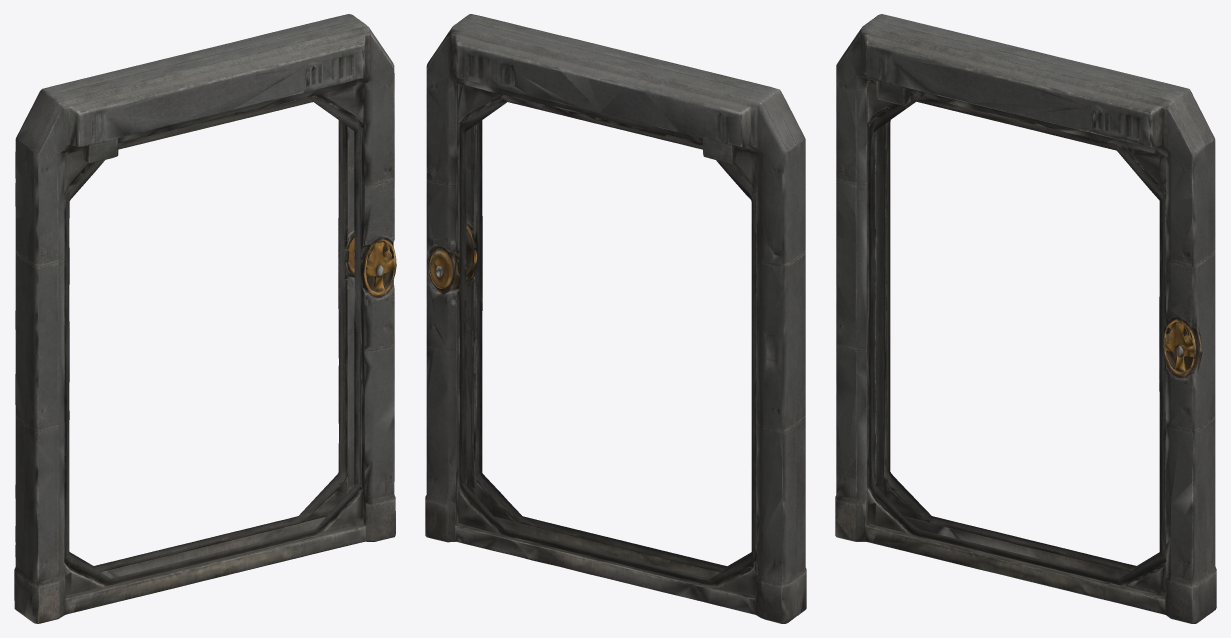
File: airlock_pressure_frame.glb
3 renders of one model, left to right at view 1: azimuth 30°, elevation 25°; view 2: azimuth 150°, elevation 25°; view 3: azimuth 330°, elevation 25°, orthographic.
Parts seen in each view (by area): view 1: airlock_pressure_frame; view 2: airlock_pressure_frame; view 3: airlock_pressure_frame.
Part boxes in pixels (x1,y1,x2,y2): airlock_pressure_frame: [14, 14, 396, 623]; airlock_pressure_frame: [425, 14, 806, 623]; airlock_pressure_frame: [835, 14, 1216, 623].
Size of the model in its own units: 1.86 by 2.52 by 0.3112.
Materials: 1 (1 with a texture image).
